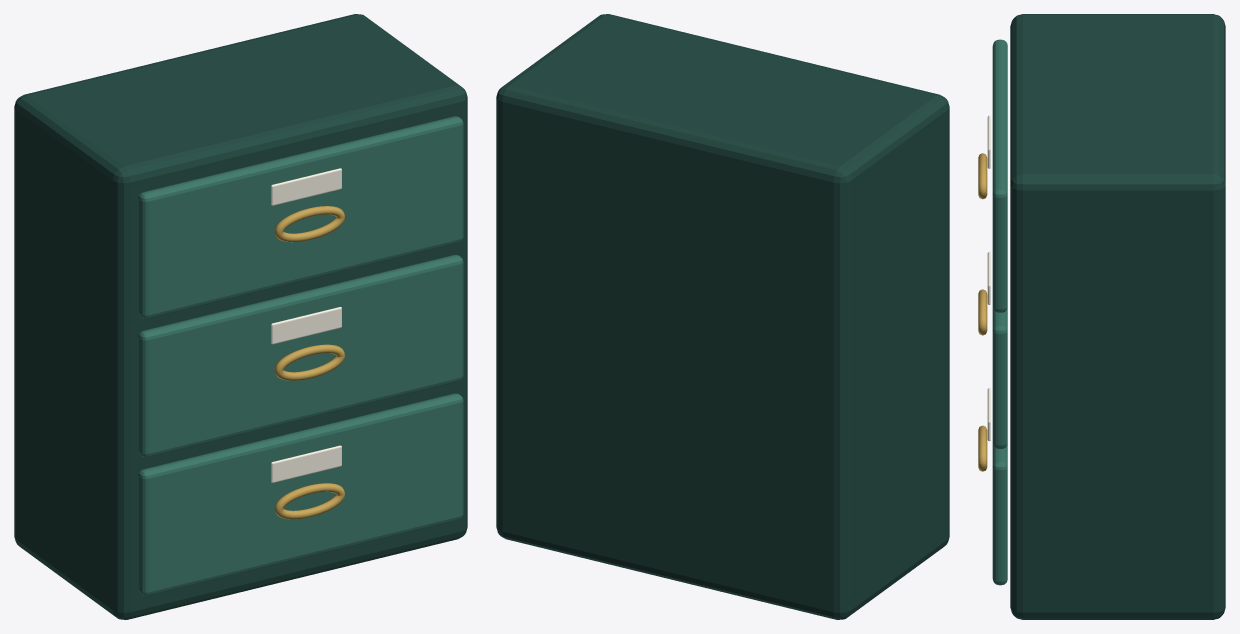
The model's file is filing_cabinet.glb.
The picture shows the model from 3 angles, left to right: view 1: azimuth 30°, elevation 25°; view 2: azimuth 150°, elevation 25°; view 3: azimuth 270°, elevation 25°; orthographic projection.
Visible parts, largest first — view 1: Case, Drawer.001, Drawer.002, Drawer, Label_slot, Label_slot.002, Label_slot.001, Pull.001, Pull, Pull.002; view 2: Case; view 3: Case, Drawer.002, Drawer.001, Drawer, Pull, Pull.001, Pull.002.
Boxes of the visible parts, x1=… form: Case: x1=14, y1=14, x2=467, y2=619; Drawer.001: x1=138, y1=255, x2=463, y2=457; Drawer.002: x1=138, y1=116, x2=463, y2=318; Drawer: x1=138, y1=393, x2=463, y2=595; Label_slot: x1=271, y1=445, x2=341, y2=482; Label_slot.002: x1=271, y1=168, x2=341, y2=205; Label_slot.001: x1=271, y1=307, x2=341, y2=344; Pull.001: x1=274, y1=344, x2=344, y2=380; Pull: x1=274, y1=483, x2=344, y2=519; Pull.002: x1=274, y1=206, x2=344, y2=242; Case: x1=496, y1=14, x2=949, y2=619; Case: x1=1010, y1=14, x2=1225, y2=619; Drawer.002: x1=992, y1=39, x2=1007, y2=312; Drawer.001: x1=992, y1=307, x2=1007, y2=448; Drawer: x1=992, y1=443, x2=1007, y2=585; Pull: x1=978, y1=425, x2=987, y2=471; Pull.001: x1=978, y1=289, x2=987, y2=335; Pull.002: x1=978, y1=153, x2=987, y2=199.
Bounding box in the file's own units: 0.8 × 0.98 × 0.494.
